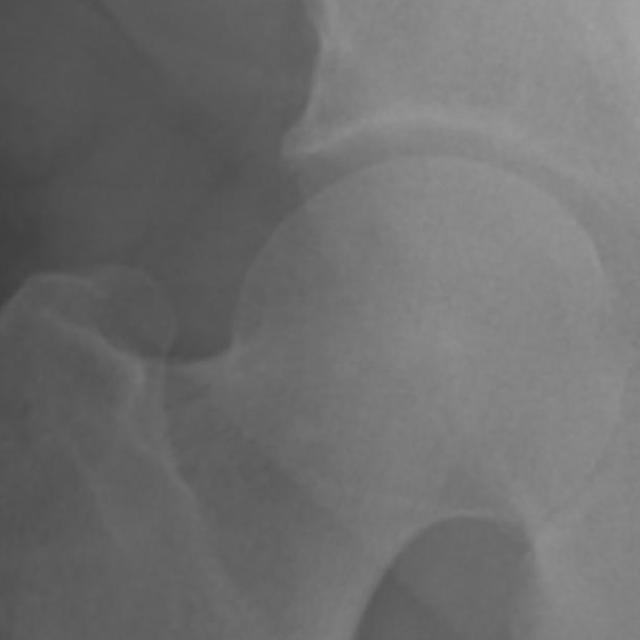Fitted_femural_head: (386, 152, 432, 386)
